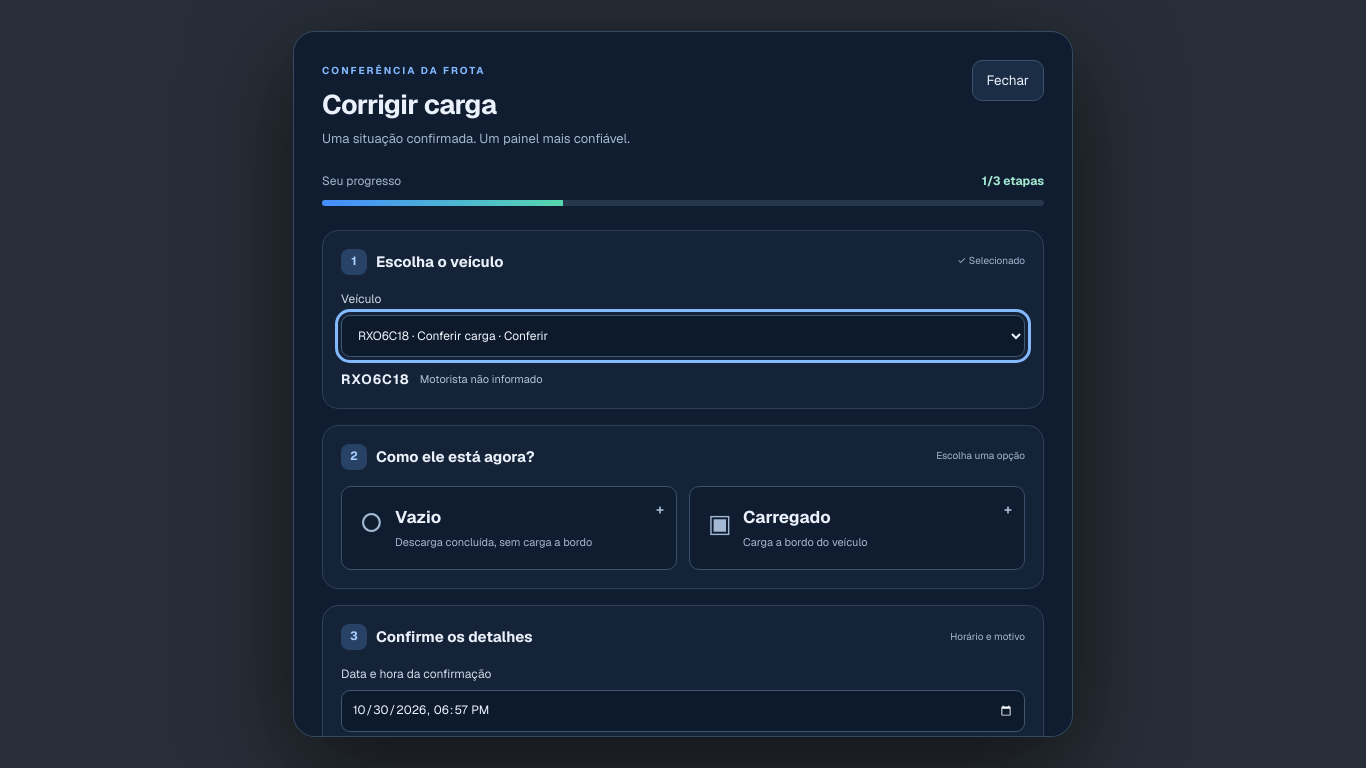
Test: prevents duplicate submissions and retains success if refreshing the panel fails
Click the button "○ Vazio Descarga concluída, sem carga a bordo +". click: (418, 517)
box: [341, 486, 677, 570]
(page scrolled)
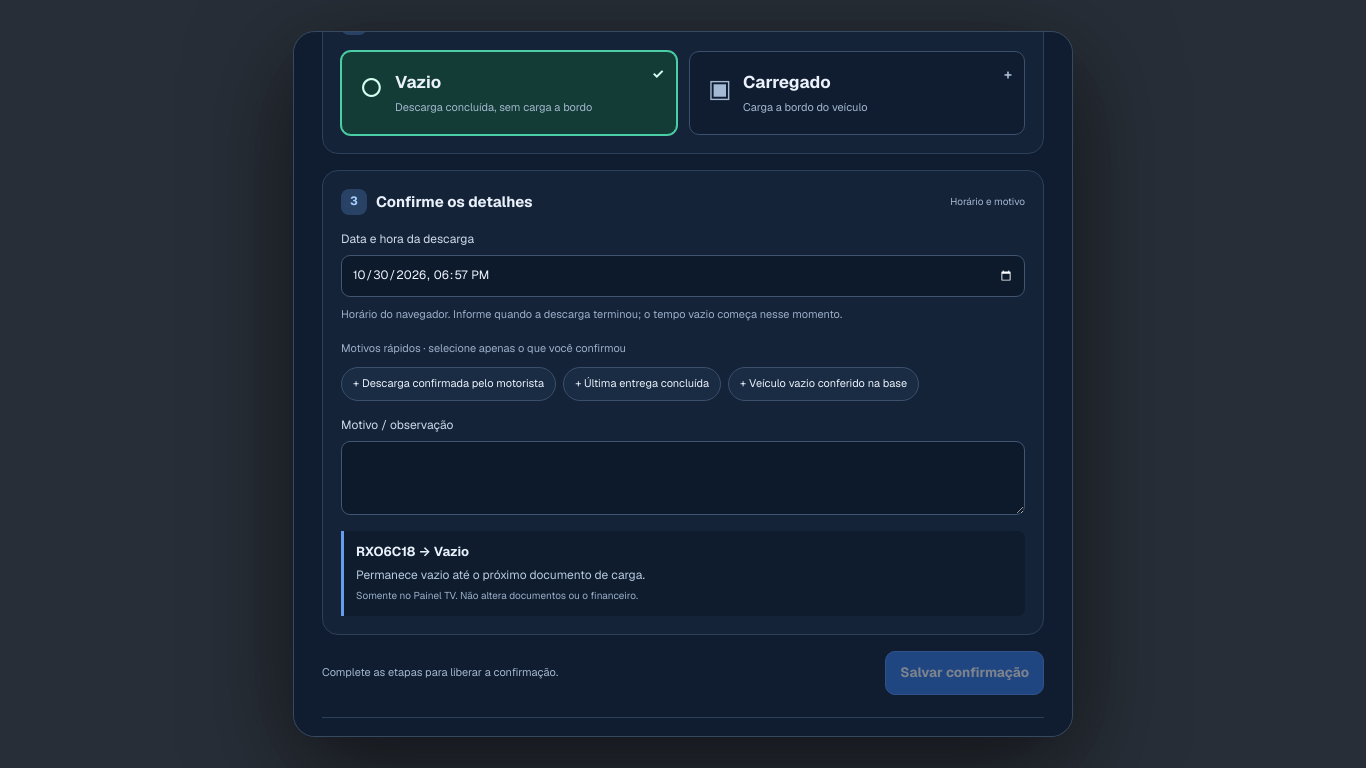
Click the button "+ Última entrega concluída". click: (642, 384)
box: [563, 367, 721, 400]
(page scrolled)
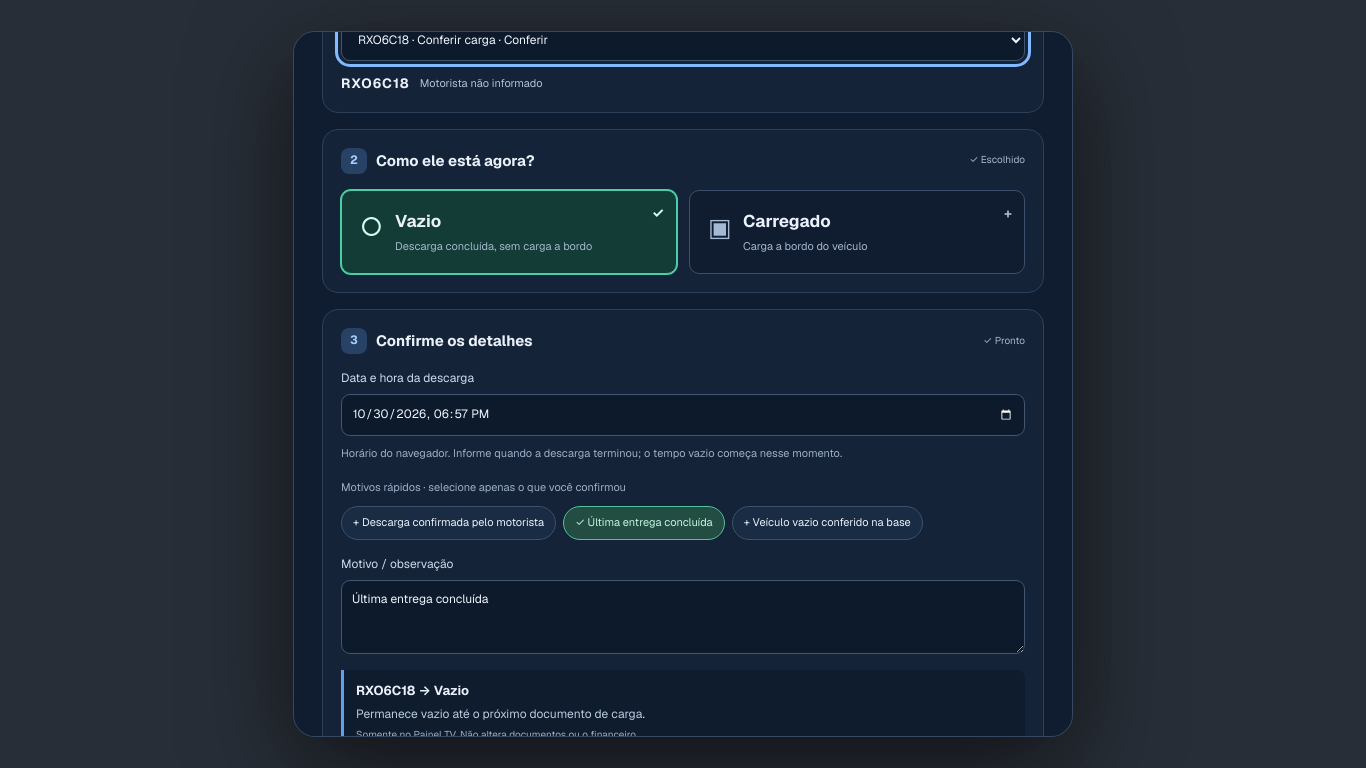
Submit the form named "Salvar confirmação"
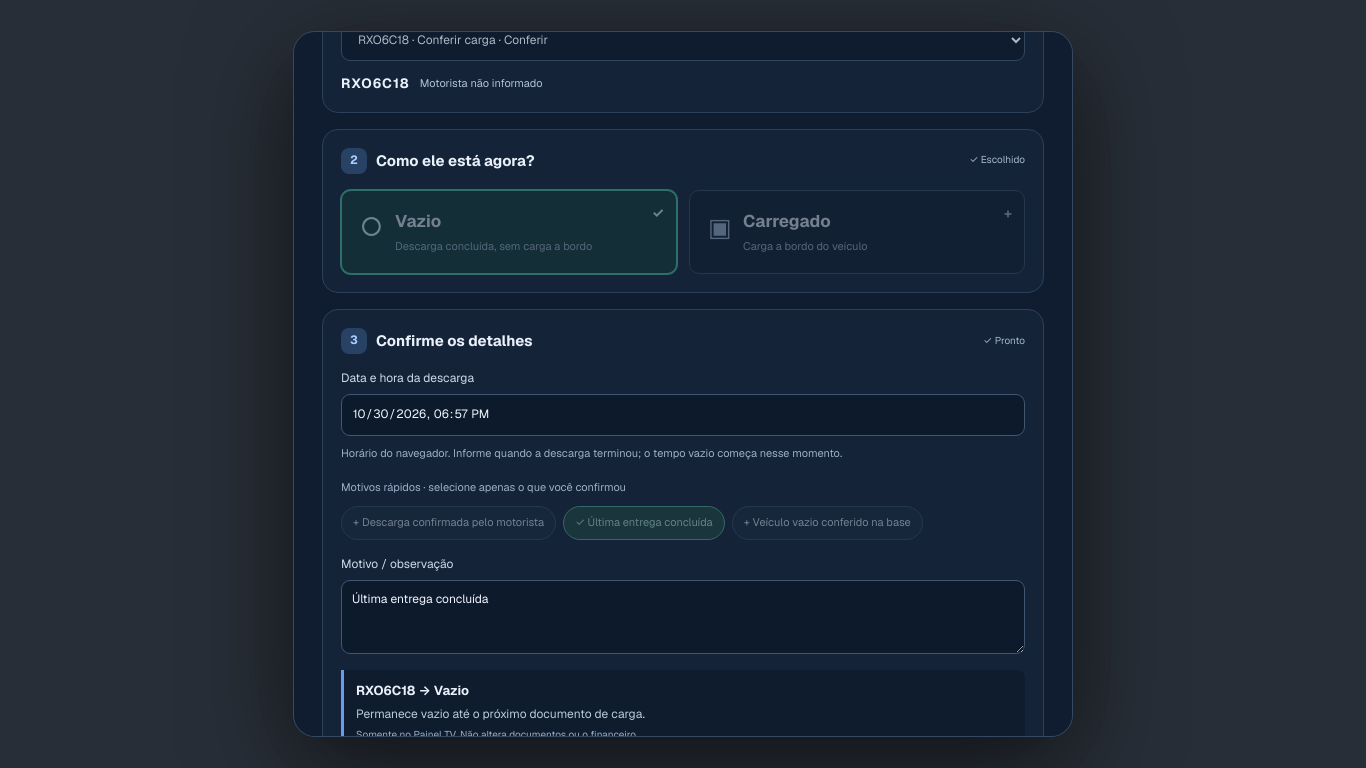
Submit the form named "Salvar confirmação"
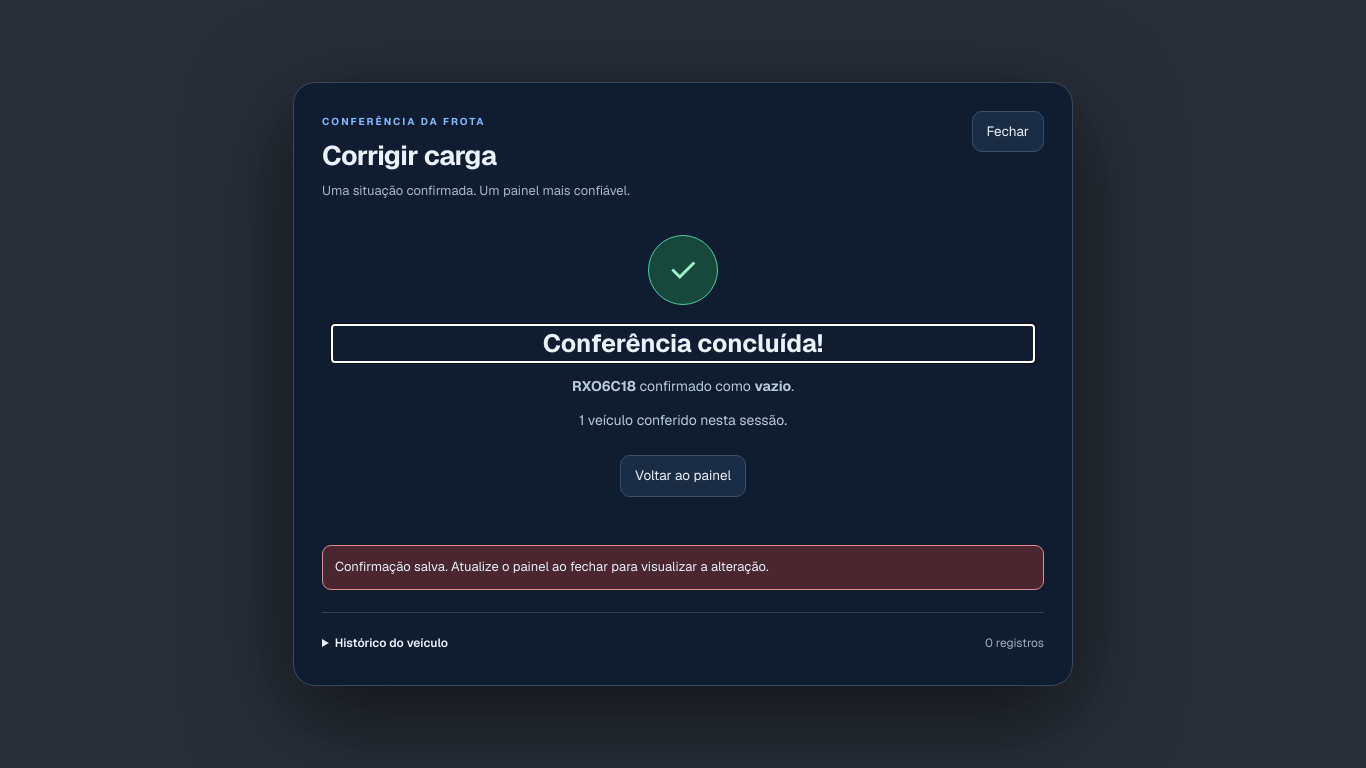
Expected: the button "Salvar confirmação" is not shown
Now the heading "Conferência concluída!" is shown, box [543, 328, 823, 360]
